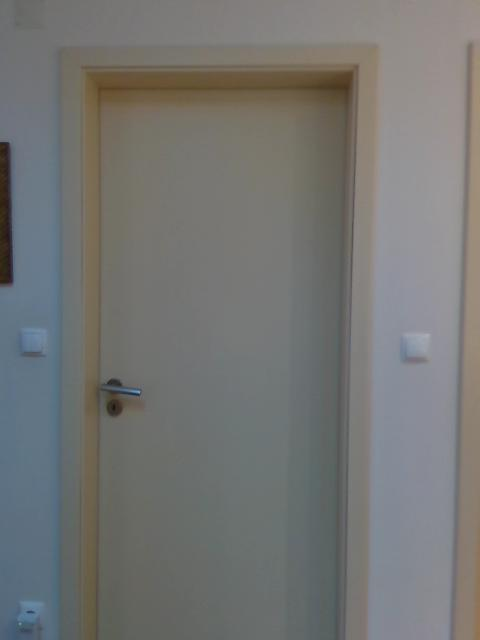closed_door: (78, 65, 354, 639)
